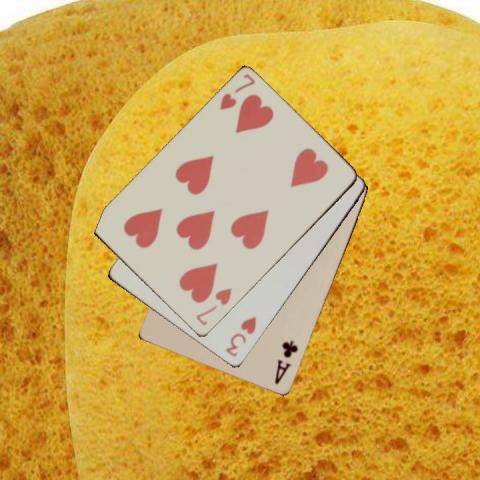3h: (223, 313, 258, 359)
7h: (216, 70, 257, 112), (193, 286, 233, 328)
Ac: (271, 337, 300, 386)
